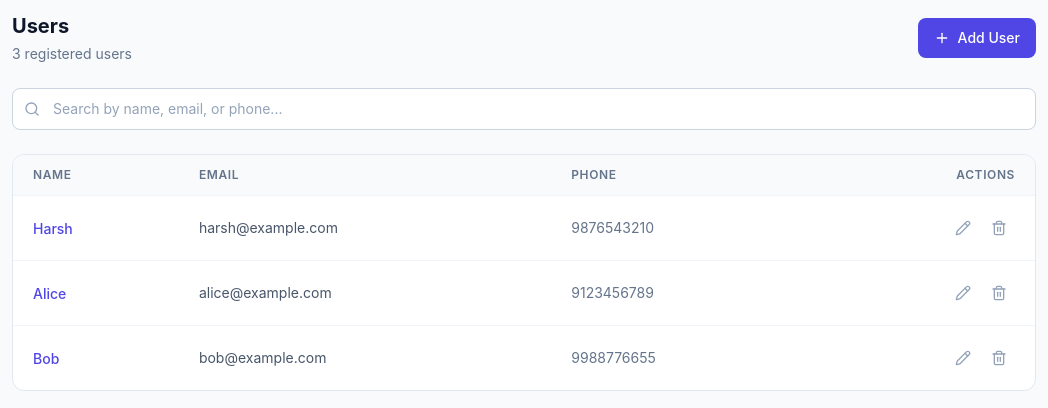
Scenario: UsersPage › filters users by search (name)
Expected: the button "Harsh" is shown, [33,219,73,239]
Type "alice" into the field with placeholder "Search by name, email, or phone..." at coordinates (524, 109), box [12,88,1036,130]
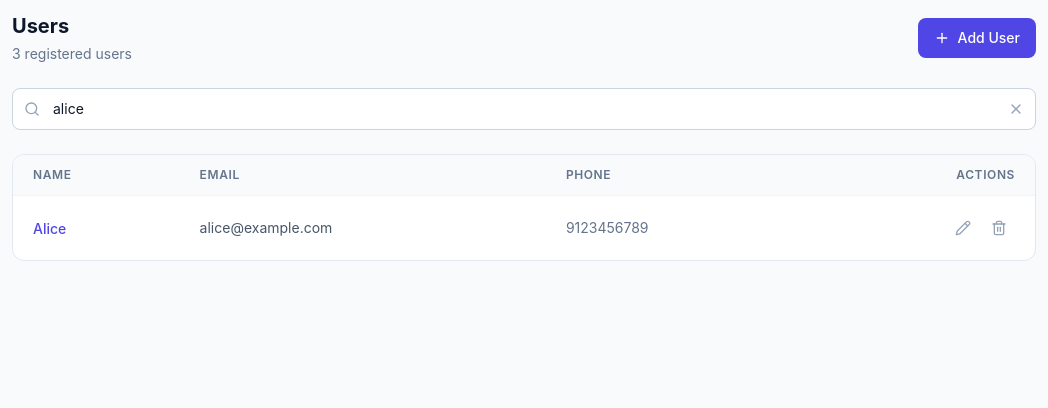
Expected: the text "alice@example.com" is shown, [200,219,332,236]
Expected: the button "Harsh" is gone
Expected: the button "Bob" is gone
